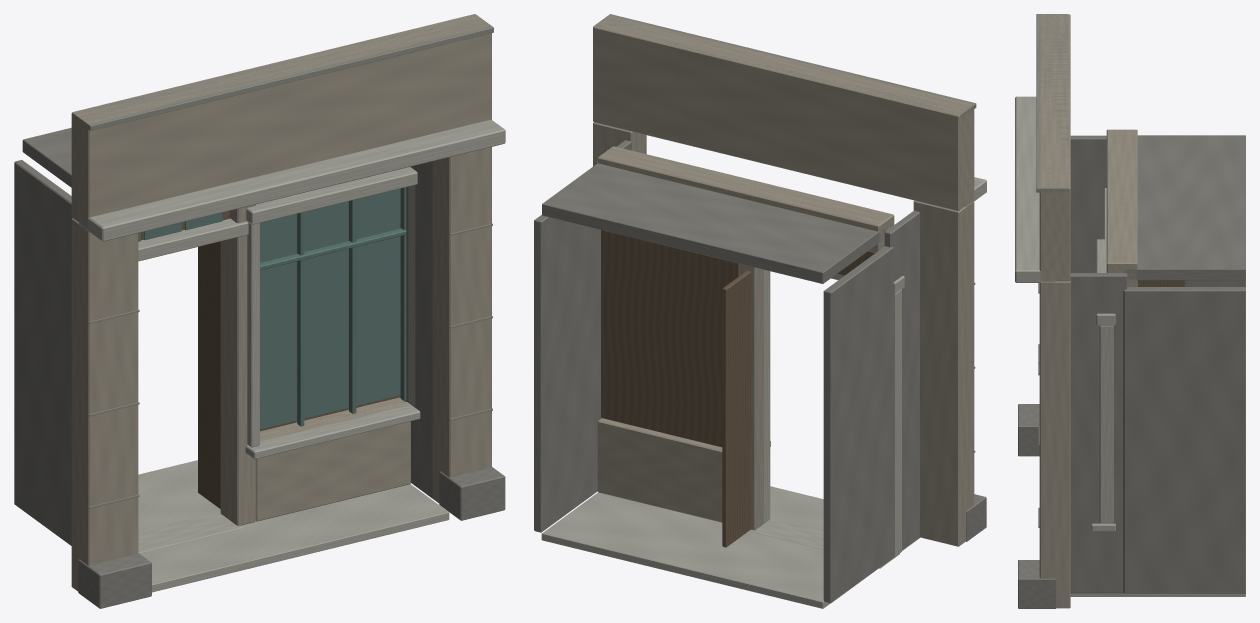
File: F02_RecessedShop_visual.glb
3 renders of one model, left to right at view 1: azimuth 30°, elevation 25°; view 2: azimuth 150°, elevation 25°; view 3: azimuth 270°, elevation 25°, orthographic. The views are drawn at different scales.
Visible parts, largest first — view 1: F02_RecessedShop__VIS; view 2: F02_RecessedShop__VIS; view 3: F02_RecessedShop__VIS.
Part boxes in pixels (box(x1,y1,x2,y2)): F02_RecessedShop__VIS: box(14, 14, 505, 608); F02_RecessedShop__VIS: box(534, 14, 986, 608); F02_RecessedShop__VIS: box(1015, 14, 1245, 608).
Bounding box in the file's own units: 16.08 × 18.3 × 8.96.
Materials: 1 (1 with a texture image).
